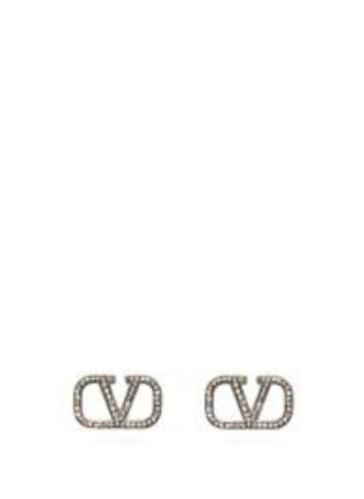VALENTINO: (69, 349, 290, 443)
